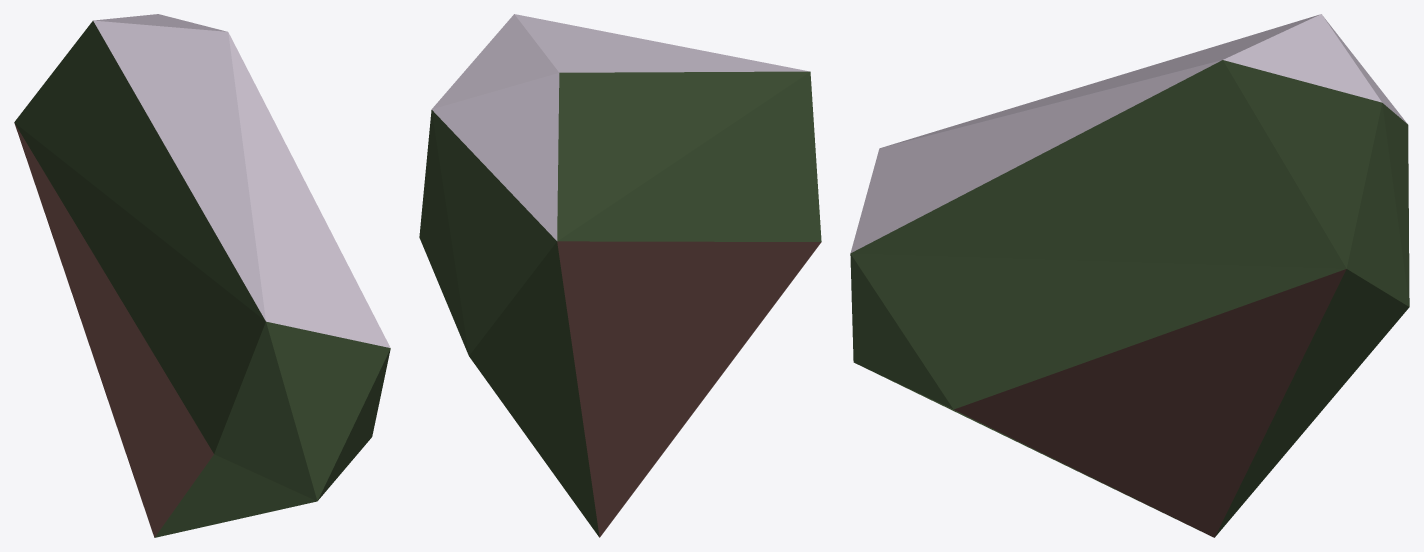
Rendered from Willow_Snow_5.lod4.glb.
3 renders of one model, left to right at view 1: azimuth 30°, elevation 25°; view 2: azimuth 150°, elevation 25°; view 3: azimuth 270°, elevation 25°, orthographic. The views are drawn at different scales.
Visible parts, largest first — view 1: Willow_Snow_5; view 2: Willow_Snow_5; view 3: Willow_Snow_5.
Part boxes in pixels (box(x1,y1,x2,y2)): Willow_Snow_5: box(14, 14, 390, 537); Willow_Snow_5: box(419, 14, 821, 537); Willow_Snow_5: box(850, 14, 1409, 537).
Size of the model in its own units: 1.01 by 2.52 by 2.46.
